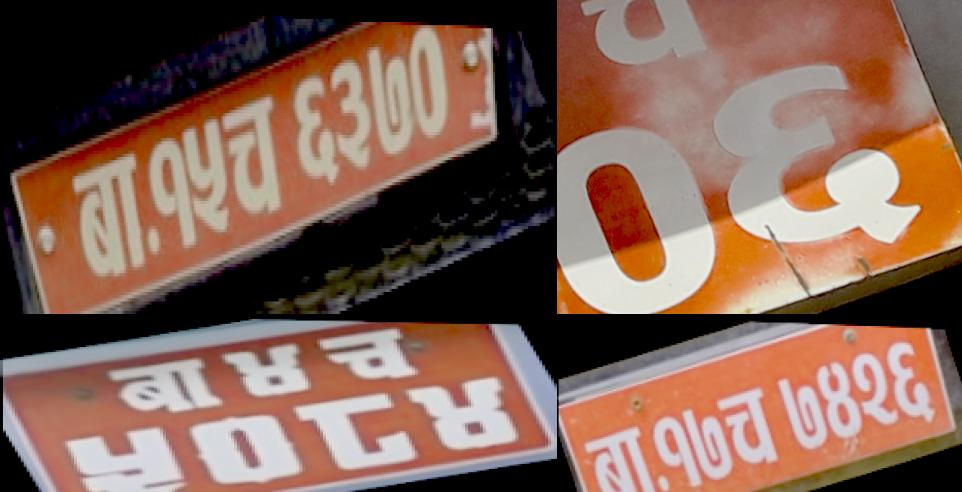0: (557, 92, 746, 314), (169, 400, 319, 492), (398, 17, 459, 143)
1: (136, 122, 207, 276), (643, 404, 704, 492)
2: (841, 336, 906, 440)
3: (320, 42, 383, 177)
4: (395, 366, 539, 454), (212, 335, 332, 404), (808, 349, 869, 448)
5: (53, 417, 205, 492), (176, 105, 243, 249)
6: (690, 26, 945, 287), (281, 60, 348, 203), (877, 324, 944, 430)
7: (357, 25, 422, 160), (676, 391, 741, 492), (769, 359, 835, 458)
8: (283, 383, 430, 476)
ba: (63, 139, 163, 307), (100, 350, 235, 422), (573, 415, 668, 492)
cha: (557, 0, 748, 105), (217, 83, 301, 241), (302, 319, 437, 390), (710, 373, 790, 481)
